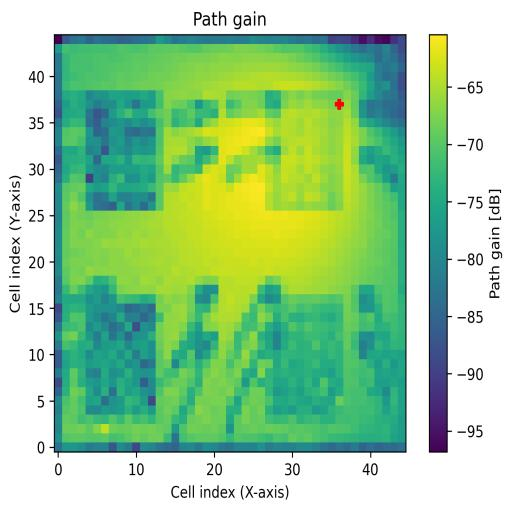Concrete: (264, 92, 344, 210)
Glass: (86, 91, 164, 212)
Metal: (266, 295, 343, 414)
Wood: (87, 293, 156, 415)
